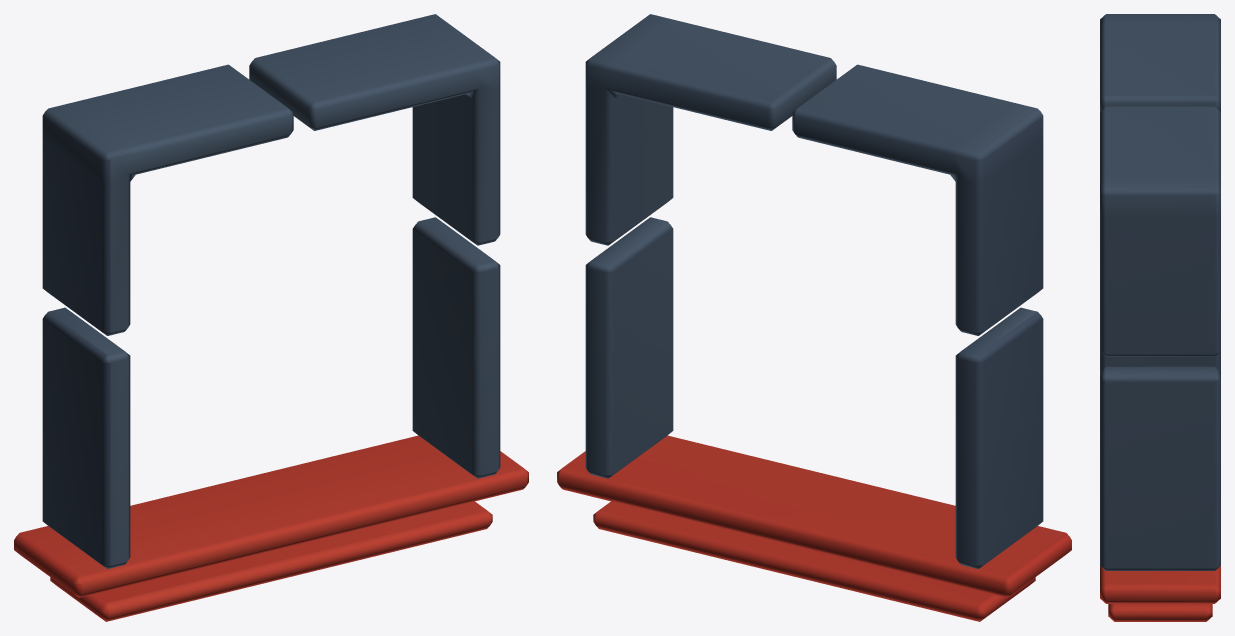
Rendered from Borders.fbx.
3 renders of one model, left to right at view 1: azimuth 30°, elevation 25°; view 2: azimuth 150°, elevation 25°; view 3: azimuth 270°, elevation 25°, orthographic. The views are drawn at different scales.
Parts seen in each view (by area): view 1: Borders, Deadzone; view 2: Borders, Deadzone; view 3: Borders, Deadzone.
Part boxes in pixels (x1=…): Borders: x1=42, y1=14, x2=500, y2=568; Deadzone: x1=14, y1=435, x2=528, y2=621; Borders: x1=585, y1=14, x2=1043, y2=568; Deadzone: x1=557, y1=435, x2=1071, y2=621; Borders: x1=1100, y1=14, x2=1220, y2=570; Deadzone: x1=1100, y1=566, x2=1220, y2=621.
Bounding box in the file's own units: 800 × 796 × 200.
